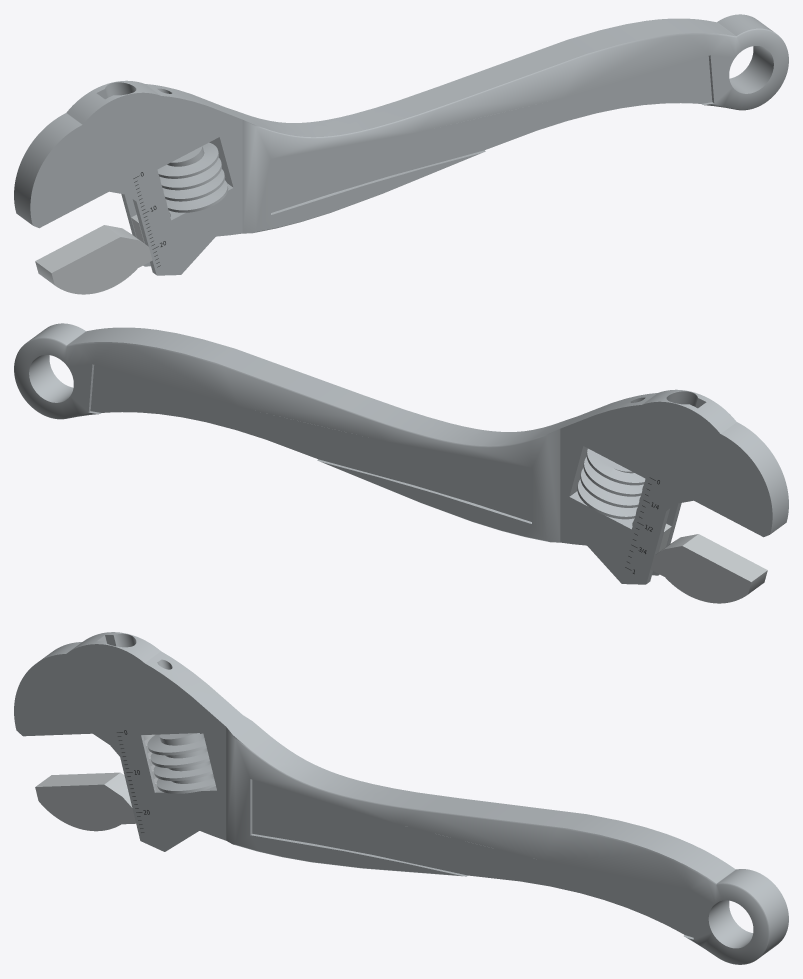
Rendered from crescent_ac28vs_half_inch_reference.glb.
The picture shows the model from 3 angles, top to bottom: view 1: azimuth 30°, elevation 25°; view 2: azimuth 150°, elevation 25°; view 3: azimuth 330°, elevation 25°; orthographic projection.
Parts seen in each view (by area): view 1: forged_body_and_fixed_jaw, sliding_jaw_and_rack, helical_adjustment_worm; view 2: forged_body_and_fixed_jaw, sliding_jaw_and_rack, helical_adjustment_worm; view 3: forged_body_and_fixed_jaw, sliding_jaw_and_rack, helical_adjustment_worm.
Boxes of the visible parts, bbox=[...] form: forged_body_and_fixed_jaw: bbox=[14, 14, 788, 275]; sliding_jaw_and_rack: bbox=[35, 177, 169, 294]; helical_adjustment_worm: bbox=[157, 142, 228, 212]; forged_body_and_fixed_jaw: bbox=[14, 323, 788, 584]; sliding_jaw_and_rack: bbox=[633, 484, 767, 603]; helical_adjustment_worm: bbox=[577, 448, 645, 519]; forged_body_and_fixed_jaw: bbox=[14, 632, 788, 964]; sliding_jaw_and_rack: bbox=[35, 734, 159, 831]; helical_adjustment_worm: bbox=[147, 733, 215, 793].
Bounding box in the file's own units: 0.2032 × 0.0496 × 0.0167.
6 materials, 2 textured.
